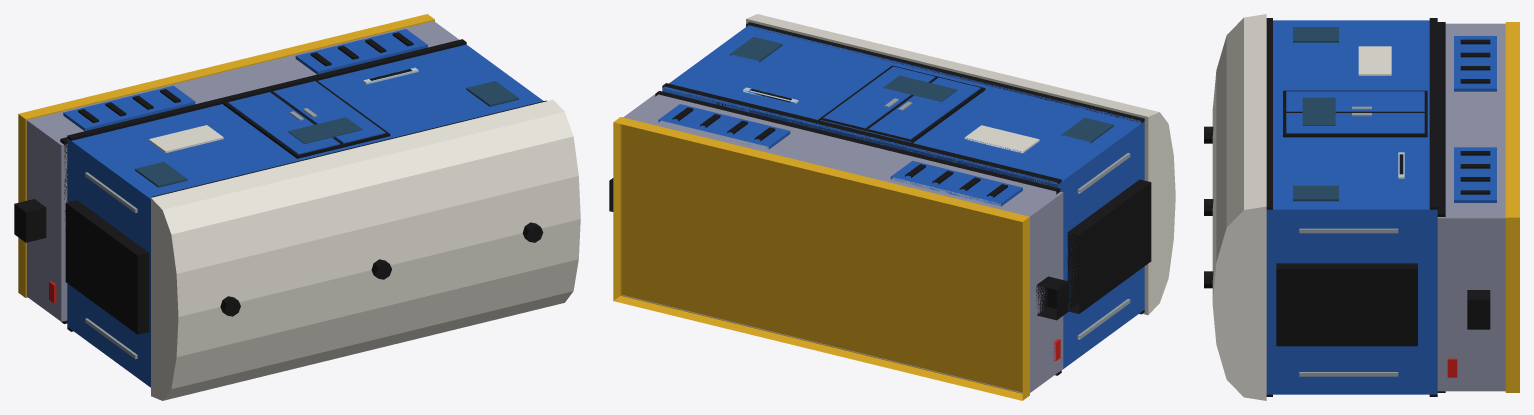
3 renders of one model, left to right at view 1: azimuth 30°, elevation 25°; view 2: azimuth 150°, elevation 25°; view 3: azimuth 270°, elevation 25°, orthographic.
Visible parts, largest first — view 1: default_roof, default_body, default_base, default_gangway-1, default_stripe, default_side1_-3.40_2.00, default_side1_-0.75_2.20, default_side1_0.03_2.20, default_pod10, default_pod11, default_side1_-0.80_2.15, default_coupler-1 (+5 smaller); view 2: default_stripe, default_body, default_base, default_roof, default_gangway-1, default_side1_-0.75_2.20, default_side1_0.03_2.20, default_pod10, default_side1_-3.40_2.00, default_pod11, default_side1_-3.40_4.50, default_base_lip (+6 smaller); view 3: default_body, default_roof, default_base, default_gangway1, default_stripe, default_side1_0.03_2.20, default_side1_-0.75_2.20, default_pod11, default_pod10, default_base_lip, default_side1_-3.40_2.00, default_side1_-0.80_2.15 (+8 smaller).
Boxes of the visible parts, box(x1,y1,x2,y2) form: default_roof: box(151, 100, 580, 400); default_body: box(67, 44, 543, 387); default_base: box(26, 21, 459, 321); default_gangway-1: box(65, 200, 149, 334); default_stripe: box(18, 14, 434, 297); default_side1_-3.40_2.00: box(67, 39, 466, 140); default_side1_-0.75_2.20: box(228, 92, 340, 154); default_side1_0.03_2.20: box(273, 81, 385, 143); default_pod10: box(63, 85, 195, 131); default_pod11: box(295, 29, 427, 74); default_side1_-0.80_2.15: box(223, 80, 390, 158); default_coupler-1: box(14, 199, 46, 242); default_stripe: box(613, 117, 1029, 400); default_body: box(662, 25, 1144, 371); default_base: box(621, 94, 1063, 392); default_roof: box(746, 14, 1175, 314); default_gangway-1: box(1067, 179, 1151, 313); default_side1_-0.75_2.20: box(868, 77, 980, 140); default_side1_0.03_2.20: box(823, 66, 935, 130); default_pod10: box(890, 160, 1022, 206); default_side1_-3.40_2.00: box(662, 83, 1061, 184); default_pod11: box(658, 104, 790, 149); default_side1_-3.40_4.50: box(746, 22, 1144, 123); default_base_lip: box(655, 91, 1060, 373); default_body: box(1266, 20, 1437, 394); default_roof: box(1212, 14, 1266, 400); default_base: box(1437, 23, 1505, 391); default_gangway1: box(1276, 263, 1417, 346); default_stripe: box(1505, 22, 1519, 392); default_side1_0.03_2.20: box(1286, 113, 1424, 133); default_side1_-0.75_2.20: box(1286, 91, 1424, 111); default_pod11: box(1454, 147, 1496, 202); default_pod10: box(1454, 36, 1496, 91); default_base_lip: box(1437, 22, 1445, 392); default_side1_-3.40_2.00: box(1429, 18, 1437, 209); default_side1_-0.80_2.15: box(1283, 90, 1427, 137).
Size of the model in its own units: 7.7 by 3.26 by 4.8.
